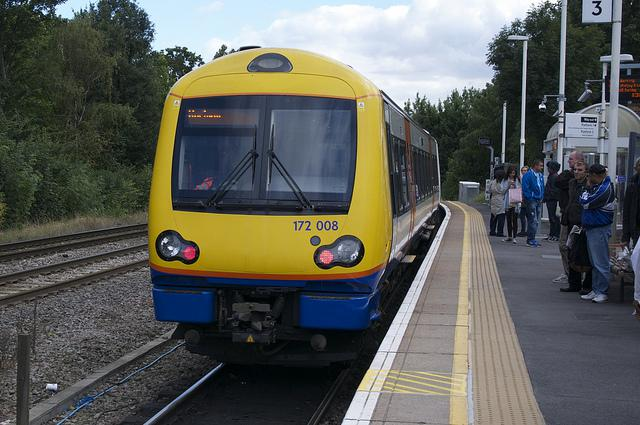Train: (148, 46, 445, 373)
